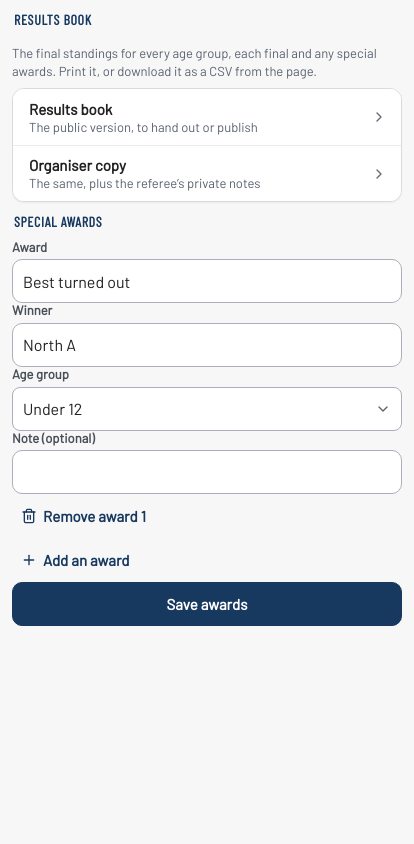
Test: ResultsBookTab › shows the reason when the awards cannot be saved
Click the button "Save awards": [207, 604] box [12,582,402,626]
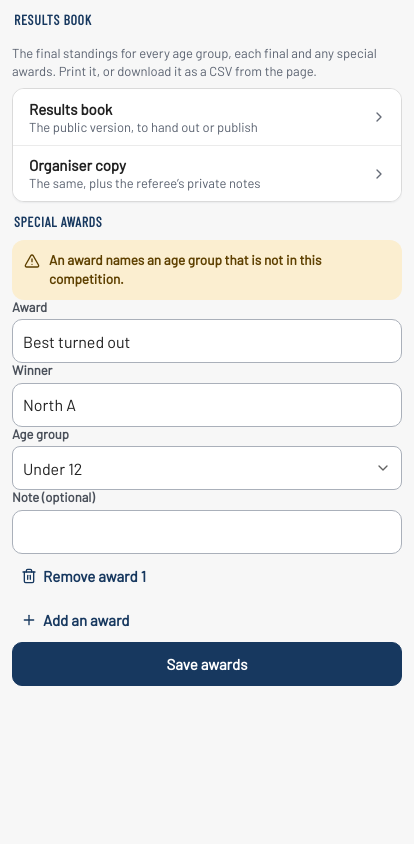
Expected: the message shows "An award names an age group", [49,251,322,287]
